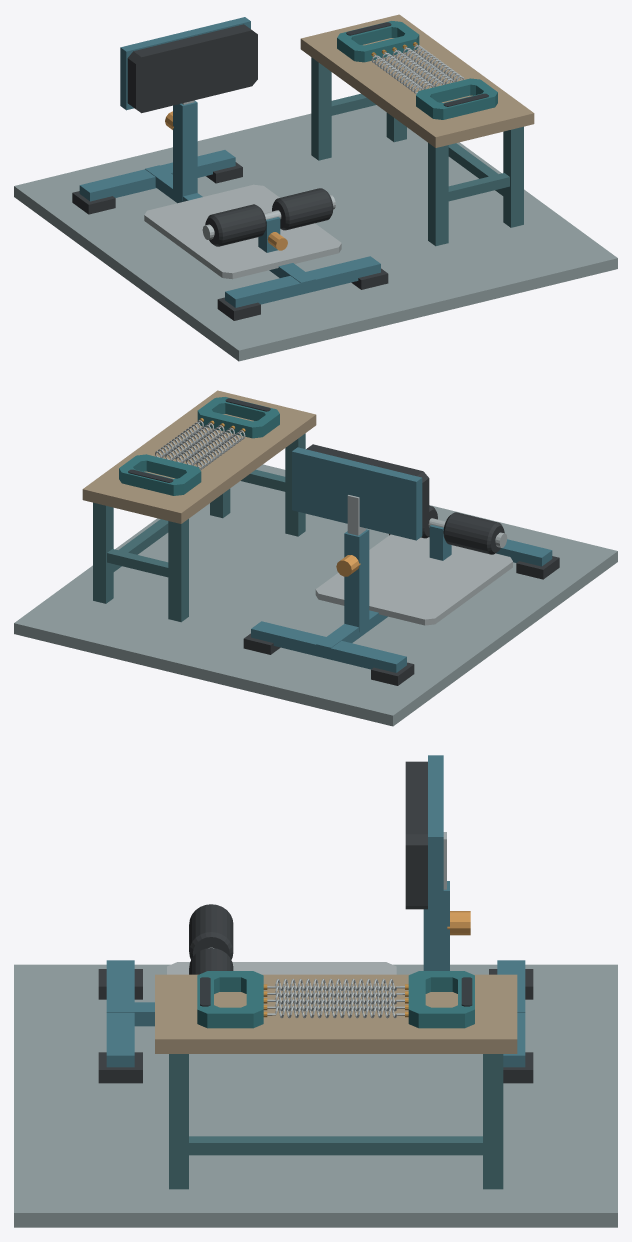
3 views of the same model, one above another, from view 1: azimuth 30°, elevation 25°; view 2: azimuth 150°, elevation 25°; view 3: azimuth 270°, elevation 25° (orthographic). The views are drawn at different scales.
Visible parts, largest first — view 1: SceneWholeFinitePreparationFloor, SceneWholeLowBenchTop, CompleteSquatStation__WholeSingleUprightCalfCushion, CompleteSquatStation__WholeBroadLowFootplate, CompleteSquatStation__WholeLowHShapedGroundFrame, CompleteSquatStation__WholeRearCalfPadPostSleeve, CompleteExpander__WholeNearChamferedLoopHandle, CompleteExpander__WholeFarChamferedLoopHandle, SceneWholeInnerFrontBenchLeg, SceneWholeInnerRearBenchLeg, SceneWholeOuterFrontBenchLeg, CompleteSquatStation__WholeLeftFootRoller (+8 smaller); view 2: SceneWholeFinitePreparationFloor, SceneWholeLowBenchTop, CompleteSquatStation__WholeBroadLowFootplate, CompleteSquatStation__WholeFullCalfPadBackplate, CompleteSquatStation__WholeLowHShapedGroundFrame, CompleteExpander__WholeFarChamferedLoopHandle, CompleteSquatStation__WholeRearCalfPadPostSleeve, CompleteExpander__WholeNearChamferedLoopHandle, SceneWholeInnerRearBenchLeg, SceneWholeOuterRearBenchLeg, CompleteSquatStation__WholeLeftFootRoller, CompleteSquatStation__WholeSingleUprightCalfCushion (+9 smaller); view 3: SceneWholeFinitePreparationFloor, SceneWholeLowBenchTop, SceneWholeOuterLongBrace, CompleteSquatStation__WholeLowHShapedGroundFrame, CompleteSquatStation__WholeSingleUprightCalfCushion, CompleteExpander__WholeNearChamferedLoopHandle, CompleteExpander__WholeFarChamferedLoopHandle, SceneWholeOuterRearBenchLeg, SceneWholeOuterFrontBenchLeg, CompleteSquatStation__WholeFullCalfPadBackplate, CompleteSquatStation__WholeBroadLowFootplate, CompleteSquatStation__WholeLeftFootRoller (+9 smaller).
Boxes of the visible parts, bbox=[...] form: SceneWholeFinitePreparationFloor: bbox=[14, 105, 617, 361]; SceneWholeLowBenchTop: bbox=[300, 14, 534, 147]; CompleteSquatStation__WholeSingleUprightCalfCushion: bbox=[127, 24, 257, 113]; CompleteSquatStation__WholeBroadLowFootplate: bbox=[144, 184, 341, 279]; CompleteSquatStation__WholeLowHShapedGroundFrame: bbox=[79, 150, 380, 307]; CompleteSquatStation__WholeRearCalfPadPostSleeve: bbox=[173, 100, 197, 201]; CompleteExpander__WholeNearChamferedLoopHandle: bbox=[416, 78, 497, 119]; CompleteExpander__WholeFarChamferedLoopHandle: bbox=[337, 21, 419, 62]; SceneWholeInnerFrontBenchLeg: bbox=[428, 143, 448, 246]; SceneWholeInnerRearBenchLeg: bbox=[311, 57, 331, 160]; SceneWholeOuterFrontBenchLeg: bbox=[503, 126, 523, 227]; CompleteSquatStation__WholeLeftFootRoller: bbox=[205, 204, 266, 246]; SceneWholeFinitePreparationFloor: bbox=[14, 464, 617, 726]; SceneWholeLowBenchTop: bbox=[82, 390, 316, 523]; CompleteSquatStation__WholeBroadLowFootplate: bbox=[315, 534, 512, 625]; CompleteSquatStation__WholeFullCalfPadBackplate: bbox=[292, 447, 422, 540]; CompleteSquatStation__WholeLowHShapedGroundFrame: bbox=[251, 537, 552, 672]; CompleteExpander__WholeFarChamferedLoopHandle: bbox=[119, 454, 201, 495]; CompleteSquatStation__WholeRearCalfPadPostSleeve: bbox=[344, 529, 369, 631]; CompleteExpander__WholeNearChamferedLoopHandle: bbox=[197, 397, 279, 438]; SceneWholeInnerRearBenchLeg: bbox=[168, 519, 188, 622]; SceneWholeOuterRearBenchLeg: bbox=[93, 502, 113, 603]; CompleteSquatStation__WholeLeftFootRoller: bbox=[443, 512, 504, 554]; CompleteSquatStation__WholeSingleUprightCalfCushion: bbox=[306, 444, 429, 527]; SceneWholeFinitePreparationFloor: bbox=[14, 964, 617, 1227]; SceneWholeLowBenchTop: bbox=[155, 974, 517, 1053]; SceneWholeOuterLongBrace: bbox=[189, 1136, 482, 1155]; CompleteSquatStation__WholeLowHShapedGroundFrame: bbox=[106, 960, 525, 1067]; CompleteSquatStation__WholeSingleUprightCalfCushion: bbox=[405, 761, 427, 909]; CompleteExpander__WholeNearChamferedLoopHandle: bbox=[197, 971, 263, 1028]; CompleteExpander__WholeFarChamferedLoopHandle: bbox=[408, 971, 474, 1028]; SceneWholeOuterRearBenchLeg: bbox=[483, 1054, 503, 1189]; SceneWholeOuterFrontBenchLeg: bbox=[169, 1054, 188, 1189]; CompleteSquatStation__WholeFullCalfPadBackplate: bbox=[428, 755, 443, 915]; CompleteSquatStation__WholeBroadLowFootplate: bbox=[167, 962, 396, 974]; CompleteSquatStation__WholeLeftFootRoller: bbox=[189, 904, 233, 959].
Size of the model in its own units: 1.46 by 0.688 by 1.5.
